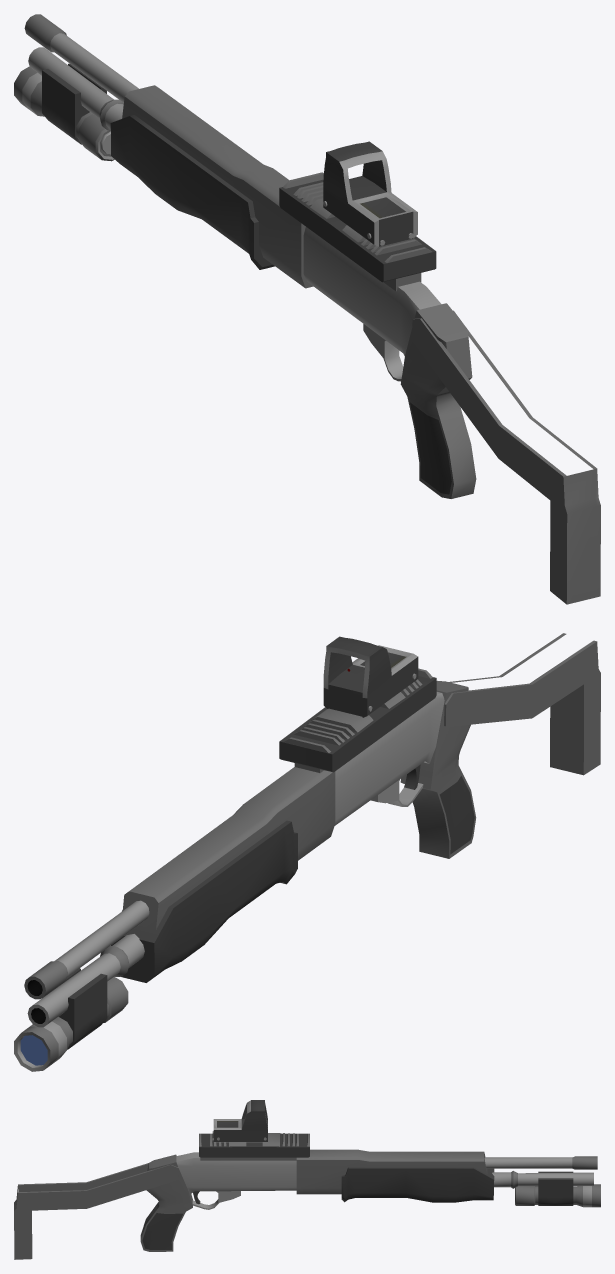
The model's file is wpn_shotgun.glb.
3 views of the same model, one above another, from view 1: azimuth 30°, elevation 25°; view 2: azimuth 150°, elevation 25°; view 3: azimuth 270°, elevation 25° (orthographic). The views are drawn at different scales.
Visible parts, largest first — view 1: wpn_shotgun; view 2: wpn_shotgun; view 3: wpn_shotgun.
Boxes of the visible parts, bbox=[...] form: wpn_shotgun: bbox=[14, 14, 600, 604]; wpn_shotgun: bbox=[14, 633, 600, 1071]; wpn_shotgun: bbox=[14, 1100, 600, 1259].
Bounding box in the file's own units: 0.0564 × 0.2879 × 1.02.
1 material, 1 textured.
